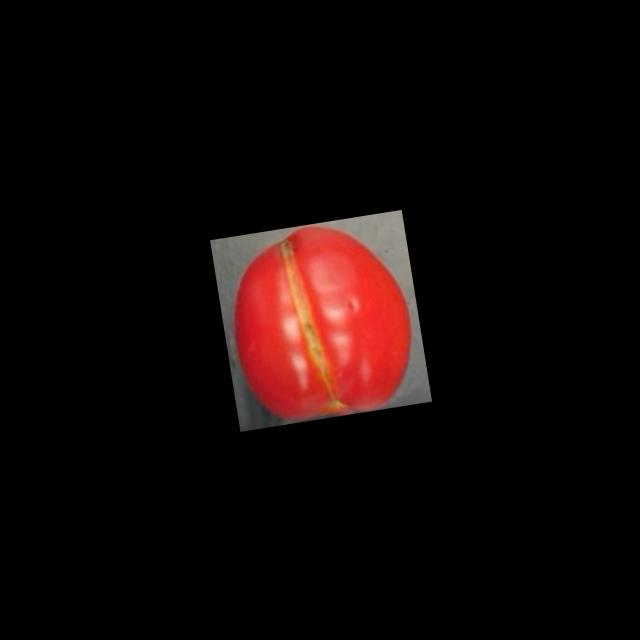tomato: (216, 210, 424, 429)
